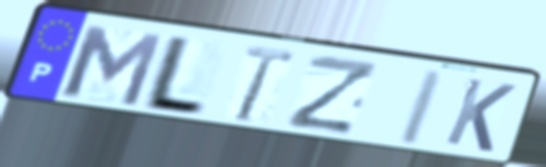I: (392, 66, 450, 149)
K: (440, 75, 520, 155)
L: (135, 33, 211, 119)
M: (59, 22, 167, 110)
T: (231, 43, 298, 125)
Z: (282, 52, 382, 136)
